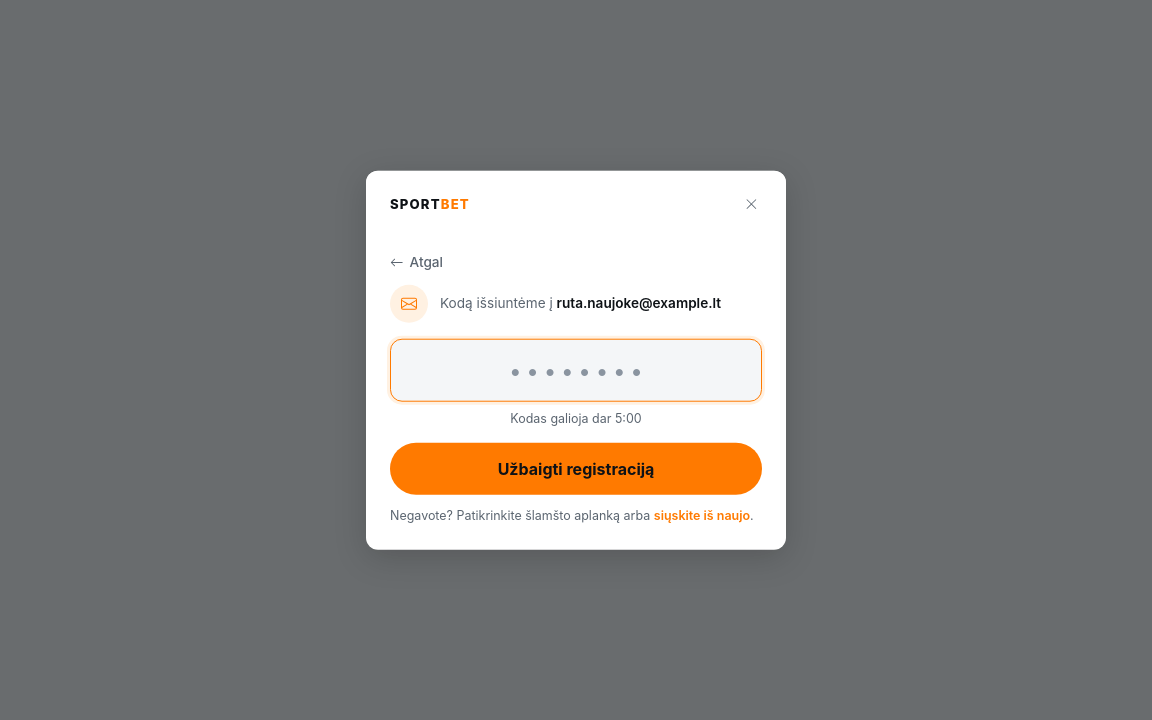
Test case: shows a refused resend on the register code step: its first field error
Click the button with aria-label "Siųsti kodą iš naujo" at {"x": 702, "y": 516}, box [654,507,750,525]
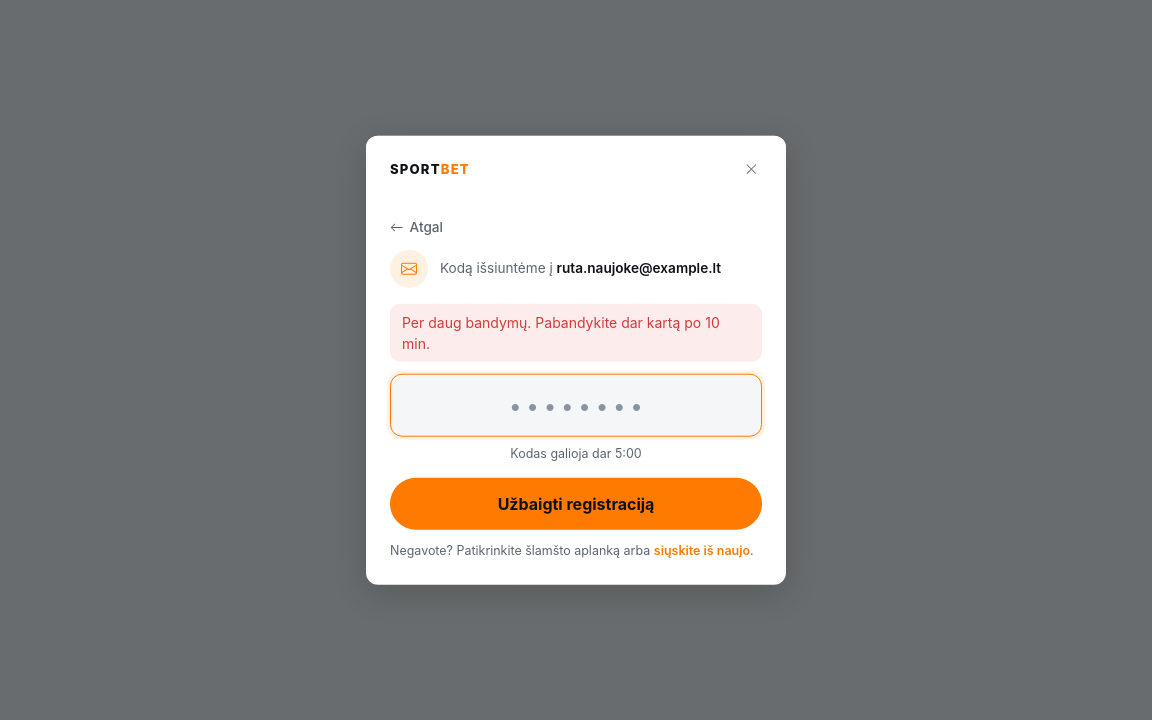
expect the message reads "Per daug bandymų. Pabandykite dar kartą po 10 min.": met, box [402,313,720,351]
